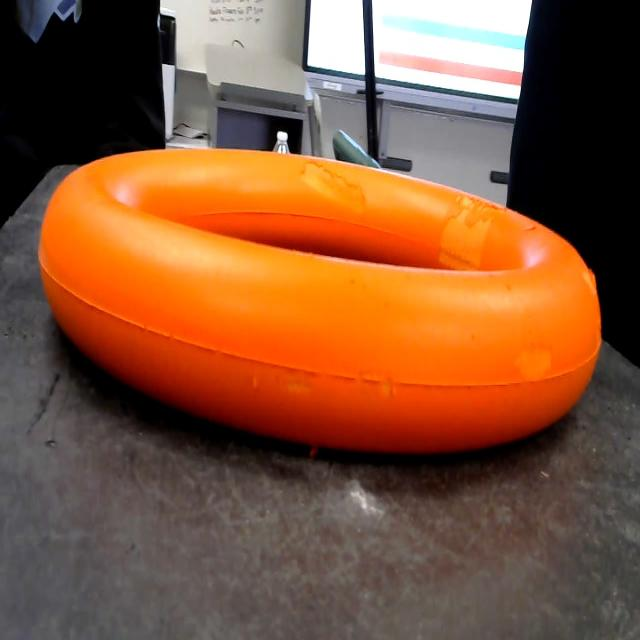note: (31, 135, 619, 476)
